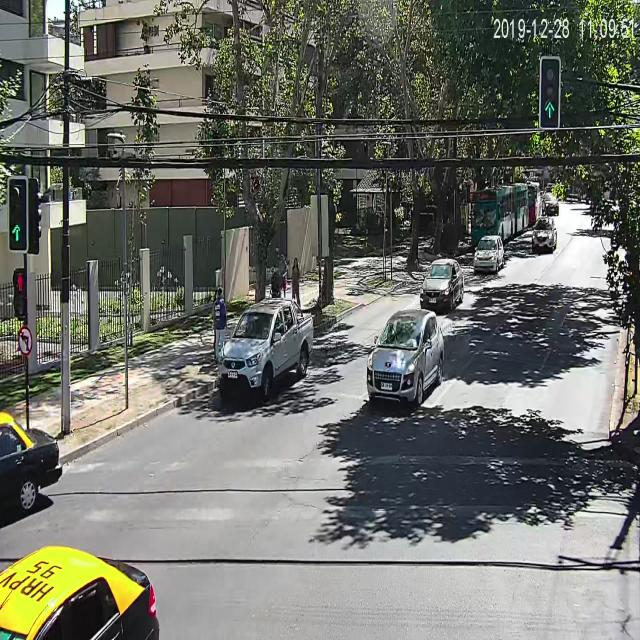AB: (468, 179, 532, 254)
